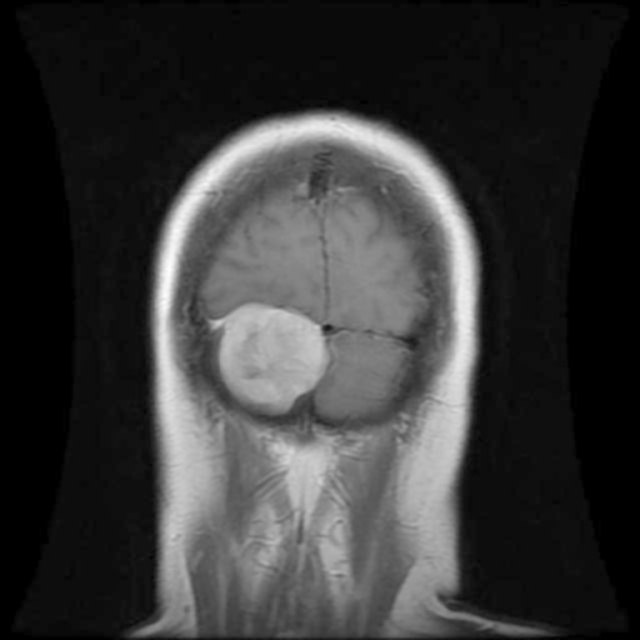meningioma tumor: (182, 302, 350, 423)
